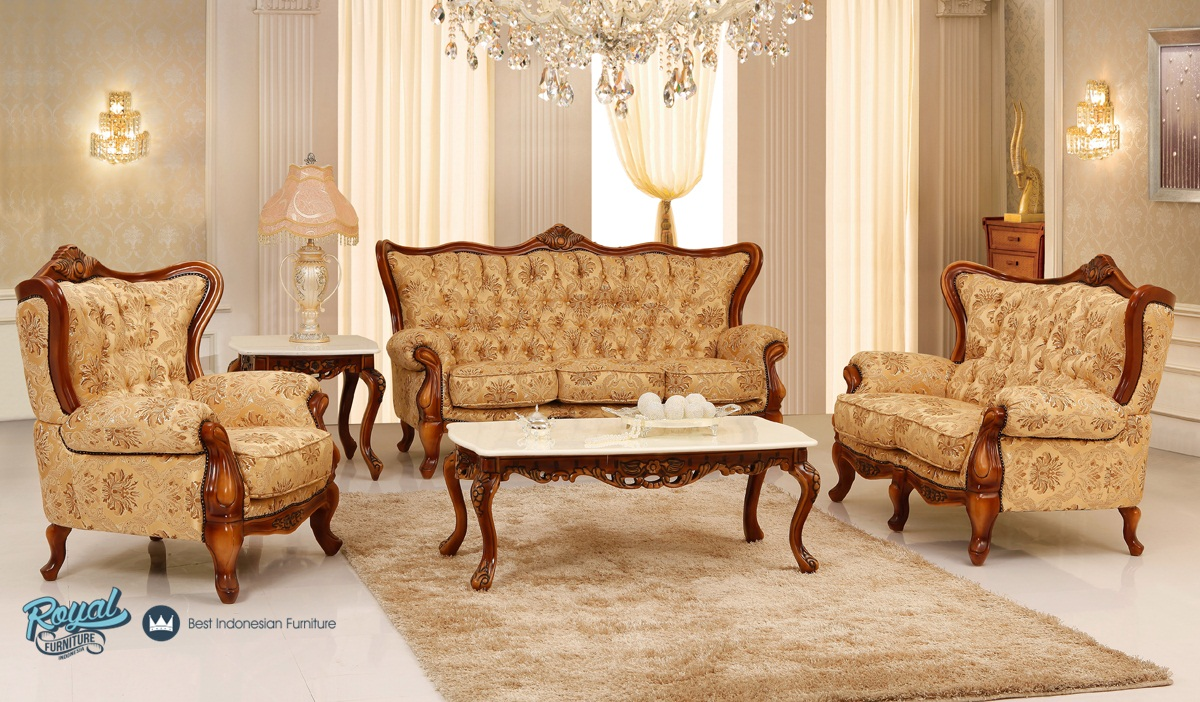Carving Chair: (18, 252, 352, 597), (857, 251, 1186, 564), (373, 223, 785, 423)
Carving Table: (434, 419, 831, 596)
